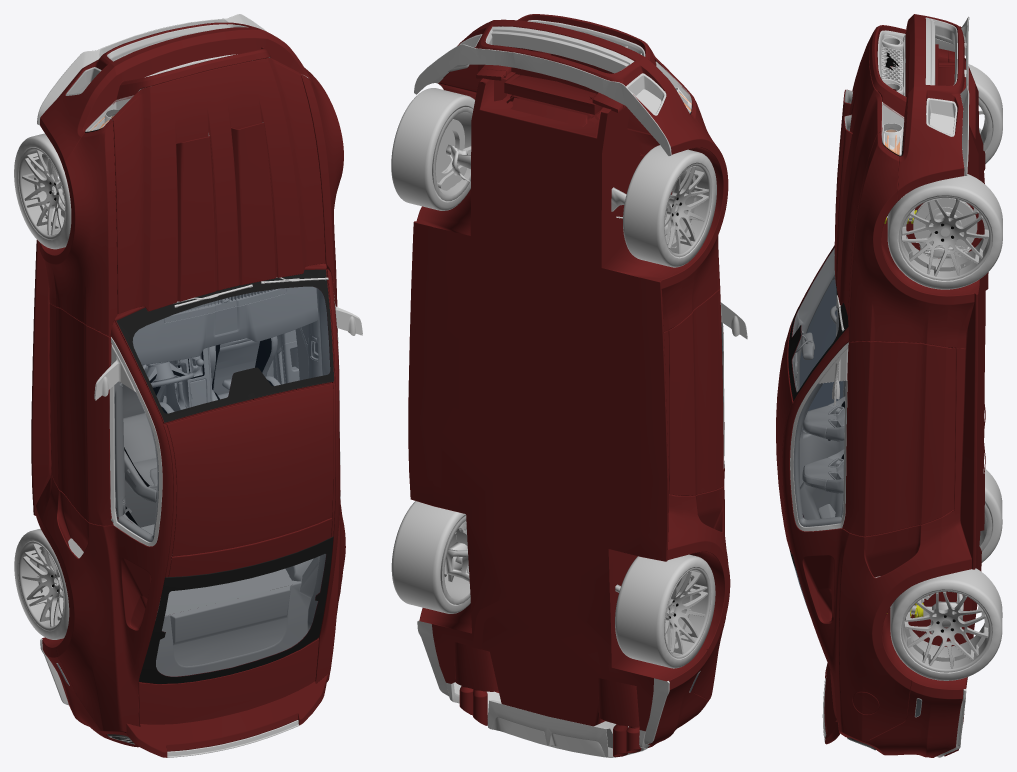
File: mustang_GT.obj
3 views of the same model, side by side, from view 1: azimuth 30°, elevation 25°; view 2: azimuth 150°, elevation 25°; view 3: azimuth 270°, elevation 25° (orthographic). The views are drawn at different scales.
Visible parts, largest first — view 1: chassis, bonnet_ok, wind_screen_ok, interior, door_lf_ok, bump_front_ok, boot_ok, wing_lf_ok, seats, wheel_lf_pivot, wheel_lb_pivot, wing_rf_ok (+3 smaller); view 2: chassis, bump_front_ok, door_lf_ok, wheel_lb_pivot, wheel_lf_pivot, bump_rear_ok, wheel_rf, wheel_rb, wing_lf_ok, wheel; view 3: chassis, door_rf_ok, bump_front_ok, wing_rf_ok, wheel_rf, wheel_rb, bonnet_ok, bump_rear_ok, interior, wind_screen_ok, seats, door_lf_ok (+6 smaller).
Boxes of the visible parts, bbox=[...] form: chassis: bbox=[31, 57, 345, 744]; bonnet_ok: bbox=[112, 57, 325, 313]; wind_screen_ok: bbox=[133, 287, 330, 676]; interior: bbox=[111, 286, 330, 676]; door_lf_ok: bbox=[49, 303, 162, 546]; bump_front_ok: bbox=[37, 14, 328, 172]; boot_ok: bbox=[126, 639, 327, 757]; wing_lf_ok: bbox=[39, 118, 117, 336]; seats: bbox=[122, 336, 280, 525]; wheel_lf_pivot: bbox=[14, 133, 71, 249]; wheel_lb_pivot: bbox=[14, 528, 69, 639]; wing_rf_ok: bbox=[299, 72, 343, 281]; chassis: bbox=[408, 46, 730, 757]; bump_front_ok: bbox=[414, 14, 713, 156]; door_lf_ok: bbox=[668, 288, 747, 495]; wheel_lb_pivot: bbox=[615, 554, 715, 668]; wheel_lf_pivot: bbox=[623, 145, 716, 267]; bump_rear_ok: bbox=[417, 608, 708, 757]; wheel_rf: bbox=[391, 88, 474, 210]; wheel_rb: bbox=[391, 501, 470, 613]; wing_lf_ok: bbox=[660, 86, 728, 331]; wheel: bbox=[435, 119, 464, 182]; chassis: bbox=[776, 44, 988, 756]; door_rf_ok: bbox=[790, 341, 956, 536]; bump_front_ok: bbox=[869, 14, 969, 200]; wing_rf_ok: bbox=[848, 131, 974, 348]; wheel_rf: bbox=[887, 174, 1002, 289]; wheel_rb: bbox=[890, 568, 1002, 680]; bonnet_ok: bbox=[834, 35, 881, 315]; bump_rear_ok: bbox=[866, 680, 966, 757]; interior: bbox=[792, 248, 844, 519]; wind_screen_ok: bbox=[792, 247, 838, 608]; seats: bbox=[802, 396, 845, 493]; door_lf_ok: bbox=[800, 276, 845, 432].
Bounding box in the file's own units: 44.93 × 109 × 32.39.
